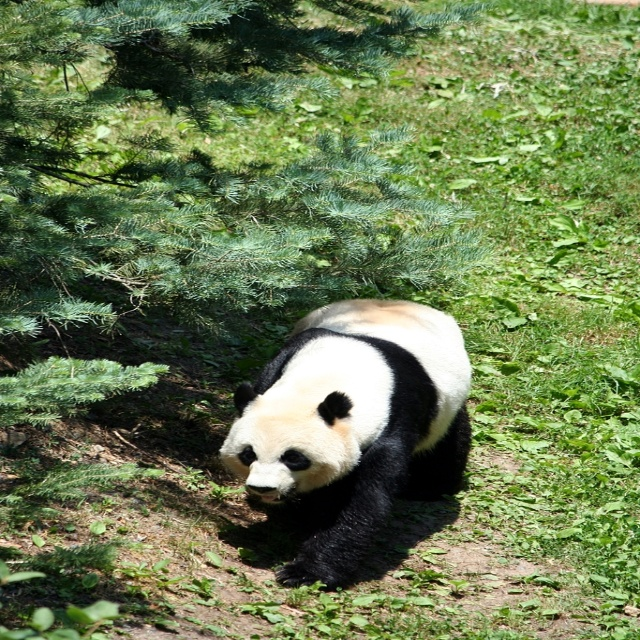Panda: (217, 299, 474, 580)
